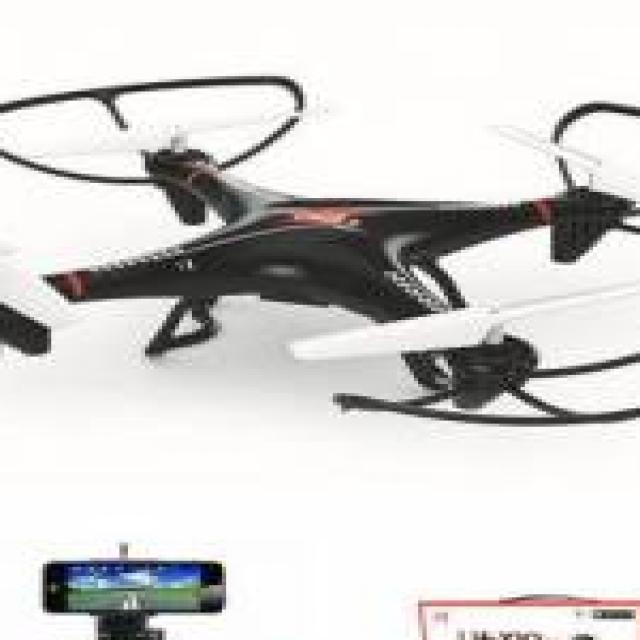drone: (0, 76, 640, 457)
